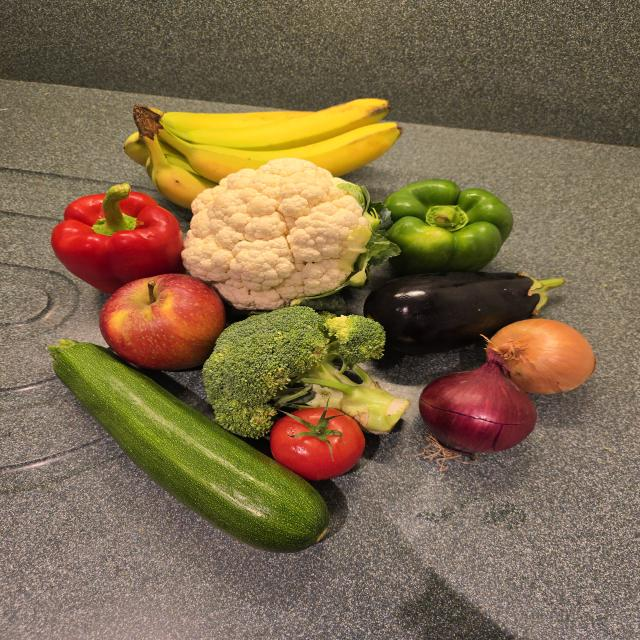Apple: (100, 274, 225, 370)
Banana: (123, 105, 402, 210), (143, 97, 389, 149)
Bell Pepper: (52, 182, 183, 293), (384, 180, 513, 276)
Broccoli: (203, 306, 414, 437)
Cauliflower: (181, 157, 383, 310)
Courgette: (48, 339, 329, 552)
Eggplant: (363, 272, 566, 355)
Onion: (419, 349, 536, 452), (487, 318, 596, 394)
Tomato: (270, 408, 365, 480)
